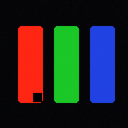1 square: (33, 93, 41, 101)
